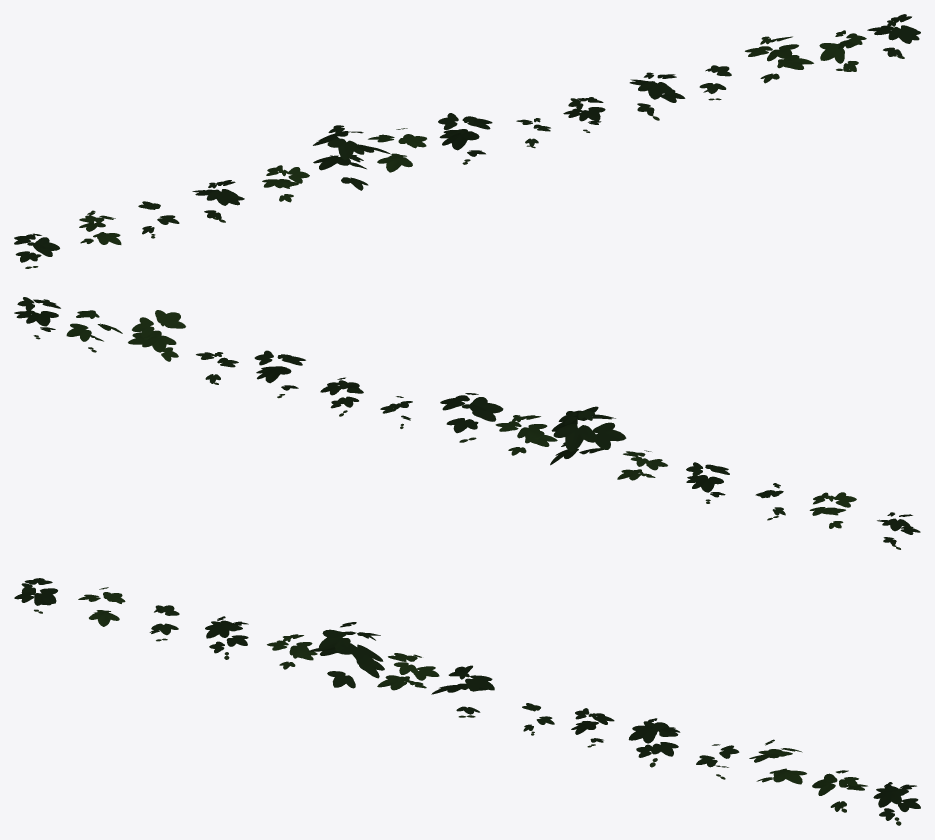
The model's file is ROW_22_SEG3_foliage.dae.
3 views of the same model, one above another, from view 1: azimuth 30°, elevation 25°; view 2: azimuth 150°, elevation 25°; view 3: azimuth 330°, elevation 25° (orthographic).
Parts seen in each view (by area): view 1: ROW_22_SEG3_foliage; view 2: ROW_22_SEG3_foliage; view 3: ROW_22_SEG3_foliage.
Part boxes in pixels (x1,y1,x2,y2): ROW_22_SEG3_foliage: (14,14,920,268); ROW_22_SEG3_foliage: (14,297,920,549); ROW_22_SEG3_foliage: (14,578,920,825).
Size of the model in its own units: 4.46 by 0.3379 by 0.2972.
